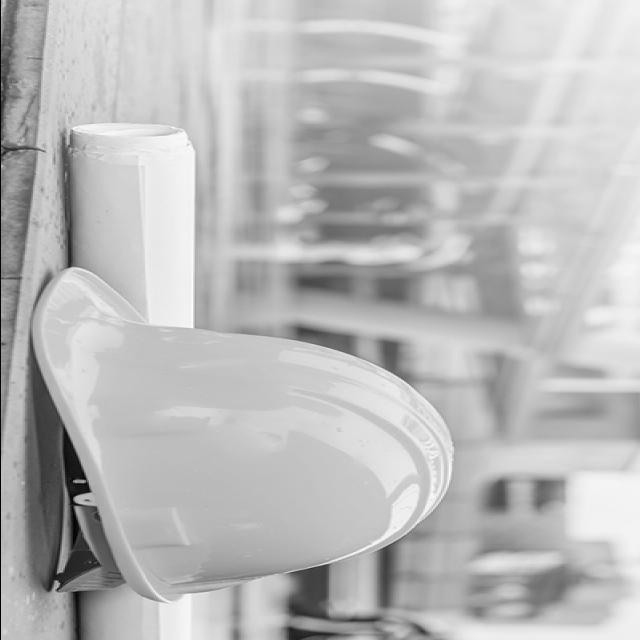safety_helmet: (27, 265, 451, 605)
